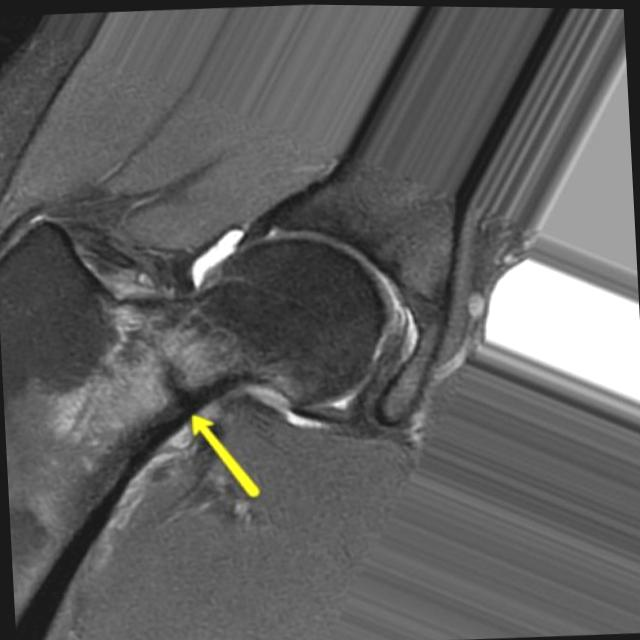Transverse Displaced: (100, 322, 198, 408)
